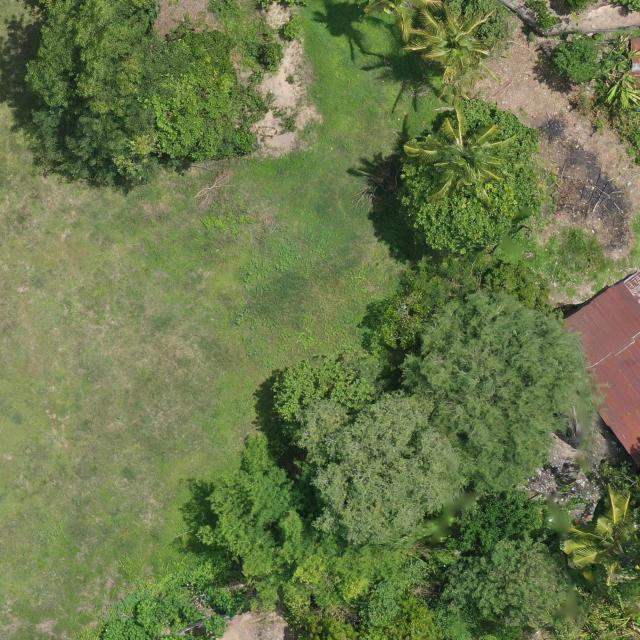Tree: (22, 0, 262, 191), (398, 290, 597, 500), (292, 386, 477, 546), (395, 96, 544, 255), (194, 431, 319, 612), (402, 96, 516, 208), (270, 356, 380, 442), (472, 536, 571, 631), (556, 482, 640, 592), (403, 3, 503, 88), (455, 488, 545, 555), (478, 260, 551, 310), (443, 0, 507, 42), (552, 35, 602, 84), (291, 614, 359, 640)
